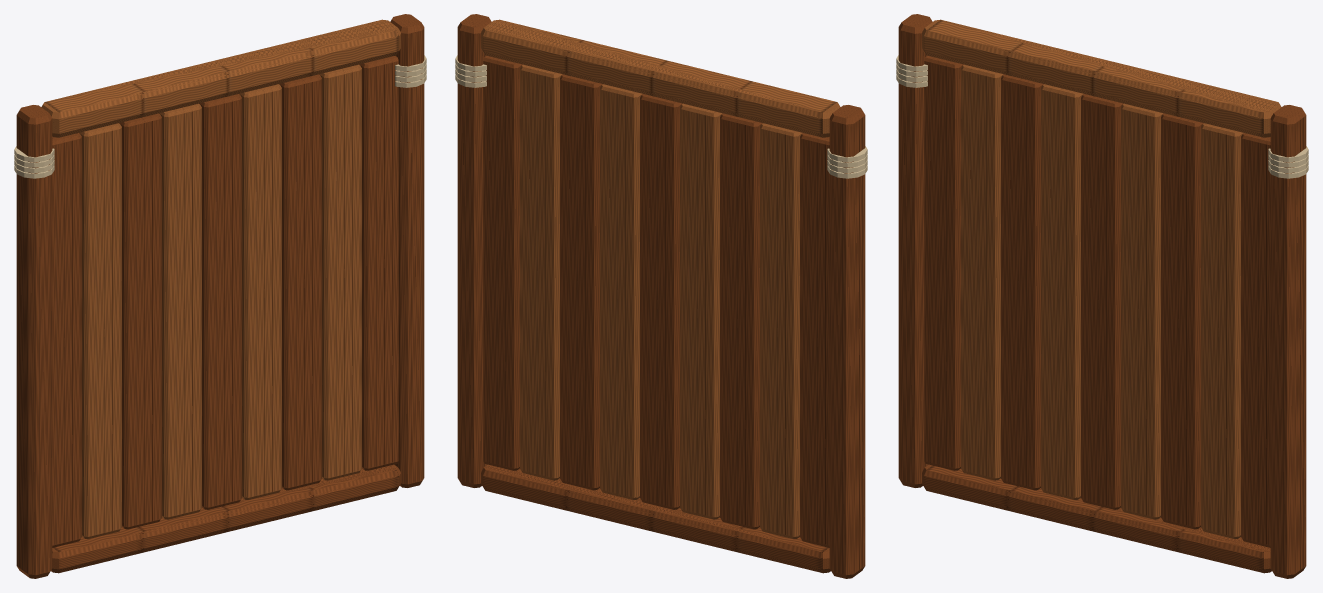
The model's file is ocean-raft-settlement-ocean-raft-settlement-cabin-wall-5413c5ec__28902.glb.
The picture shows the model from 3 angles, left to right: view 1: azimuth 30°, elevation 25°; view 2: azimuth 150°, elevation 25°; view 3: azimuth 330°, elevation 25°; orthographic projection.
Visible parts, largest first — view 1: wood, pale, rope; view 2: wood, pale, rope; view 3: wood, pale, rope.
Boxes of the visible parts, bbox=[...] form: wood: bbox=[16, 14, 424, 578]; pale: bbox=[41, 19, 400, 538]; rope: bbox=[14, 55, 426, 178]; wood: bbox=[457, 14, 865, 578]; pale: bbox=[481, 19, 840, 538]; rope: bbox=[455, 55, 867, 178]; wood: bbox=[898, 14, 1306, 578]; pale: bbox=[922, 19, 1281, 538]; rope: bbox=[896, 55, 1308, 178].
Bounding box in the file's own units: 2.03 × 2.2 × 0.1741.
Materials: 3 (2 with a texture image).
